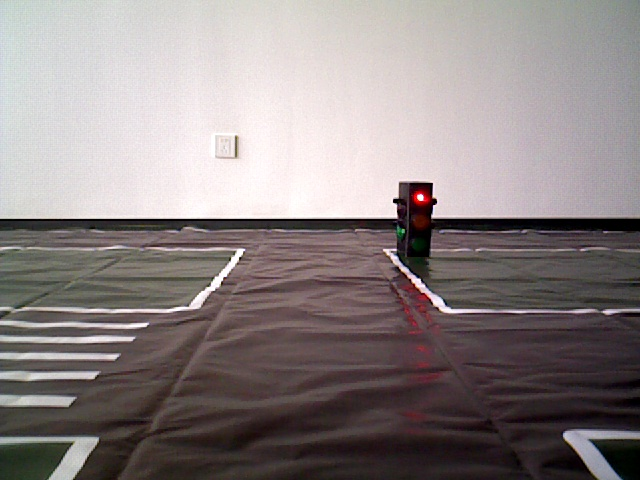red: (397, 185, 433, 263)
